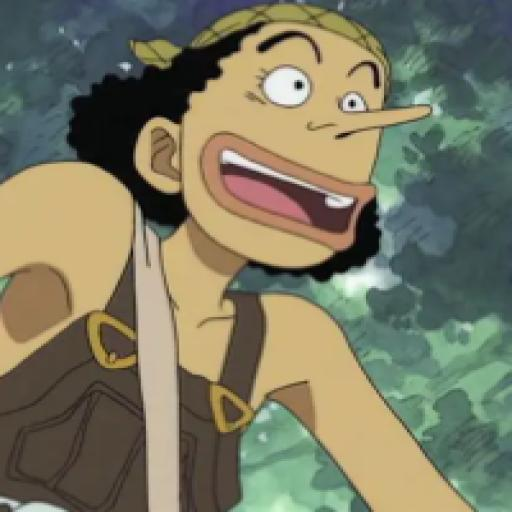Usopp: (5, 3, 512, 512)
